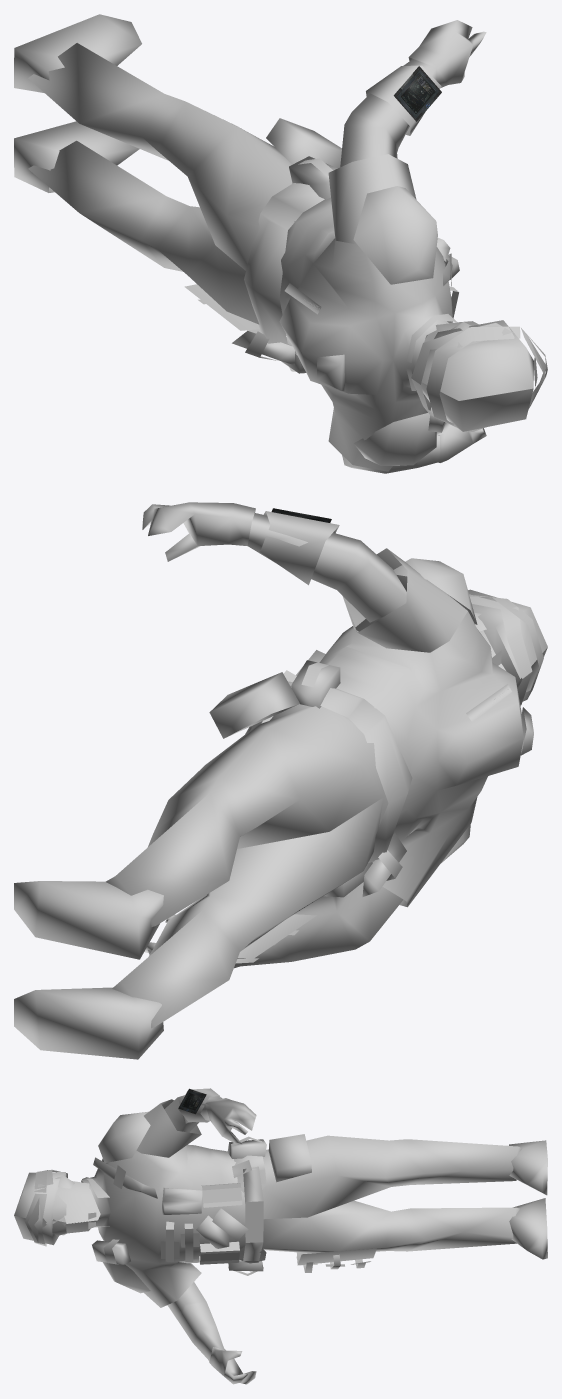
Rendered from c_mul_mp_pmc_shotgun_fb_LOD3.obj.
3 views of the same model, one above another, from view 1: azimuth 30°, elevation 25°; view 2: azimuth 150°, elevation 25°; view 3: azimuth 270°, elevation 25° (orthographic). The views are drawn at different scales.
Parts seen in each view (by area): view 1: mtl_c_mul_mp_pmc_lbr, mtl_c_mul_mp_pmc_upperbody2, mtl_c_mul_mp_pmc_gear_main_1, mtl_c_mul_mp_pmc_shot_gear, mtl_c_mul_mp_pmc_helmet1, mtl_c_gen_arm_clean_brown, mtl_c_mul_mp_pmc_gloves2, mtl_c_gen_mp_datapad; view 2: mtl_c_mul_mp_pmc_lbr, mtl_c_mul_mp_pmc_upperbody2, mtl_c_mul_mp_pmc_gear_main_1, mtl_c_gen_arm_clean_brown, mtl_c_mul_mp_pmc_shot_gear, mtl_c_mul_mp_pmc_helmet1, mtl_c_mul_mp_pmc_gloves2; view 3: mtl_c_mul_mp_pmc_lbr, mtl_c_mul_mp_pmc_upperbody2, mtl_c_mul_mp_pmc_gear_main_1, mtl_c_mul_mp_pmc_shot_gear, mtl_c_gen_arm_clean_brown, mtl_c_mul_mp_pmc_helmet1, mtl_c_mul_mp_pmc_gloves2, mtl_c_mul_mp_pmc_balaclava, mtl_c_mul_mp_pmc_glasses, mtl_c_gen_mp_datapad.
Boxes of the visible parts, box(x1,y1,x2,y2) form: mtl_c_mul_mp_pmc_lbr: box(28, 43, 292, 324); mtl_c_mul_mp_pmc_upperbody2: box(279, 154, 452, 471); mtl_c_mul_mp_pmc_gear_main_1: box(14, 14, 456, 432); mtl_c_mul_mp_pmc_shot_gear: box(248, 65, 459, 465); mtl_c_mul_mp_pmc_helmet1: box(411, 320, 547, 431); mtl_c_gen_arm_clean_brown: box(340, 59, 445, 473); mtl_c_mul_mp_pmc_gloves2: box(408, 20, 486, 462); mtl_c_gen_mp_datapad: box(393, 66, 441, 121); mtl_c_mul_mp_pmc_lbr: box(105, 706, 383, 1028); mtl_c_mul_mp_pmc_upperbody2: box(270, 548, 523, 907); mtl_c_mul_mp_pmc_gear_main_1: box(14, 681, 533, 1059); mtl_c_gen_arm_clean_brown: box(235, 513, 406, 966); mtl_c_mul_mp_pmc_shot_gear: box(209, 511, 477, 897); mtl_c_mul_mp_pmc_helmet1: box(468, 589, 547, 705); mtl_c_mul_mp_pmc_gloves2: box(142, 502, 255, 968); mtl_c_mul_mp_pmc_lbr: box(262, 1135, 521, 1253); mtl_c_mul_mp_pmc_upperbody2: box(81, 1099, 245, 1307); mtl_c_mul_mp_pmc_gear_main_1: box(82, 1140, 547, 1272); mtl_c_mul_mp_pmc_shot_gear: box(98, 1088, 370, 1293); mtl_c_gen_arm_clean_brown: box(164, 1095, 225, 1361); mtl_c_mul_mp_pmc_helmet1: box(14, 1169, 96, 1246); mtl_c_mul_mp_pmc_gloves2: box(205, 1098, 256, 1384); mtl_c_mul_mp_pmc_balaclava: box(54, 1176, 100, 1235); mtl_c_mul_mp_pmc_glasses: box(28, 1195, 66, 1242); mtl_c_gen_mp_datapad: box(178, 1088, 206, 1114).
Bounding box in the file's own units: 67.52 × 104 × 185.
